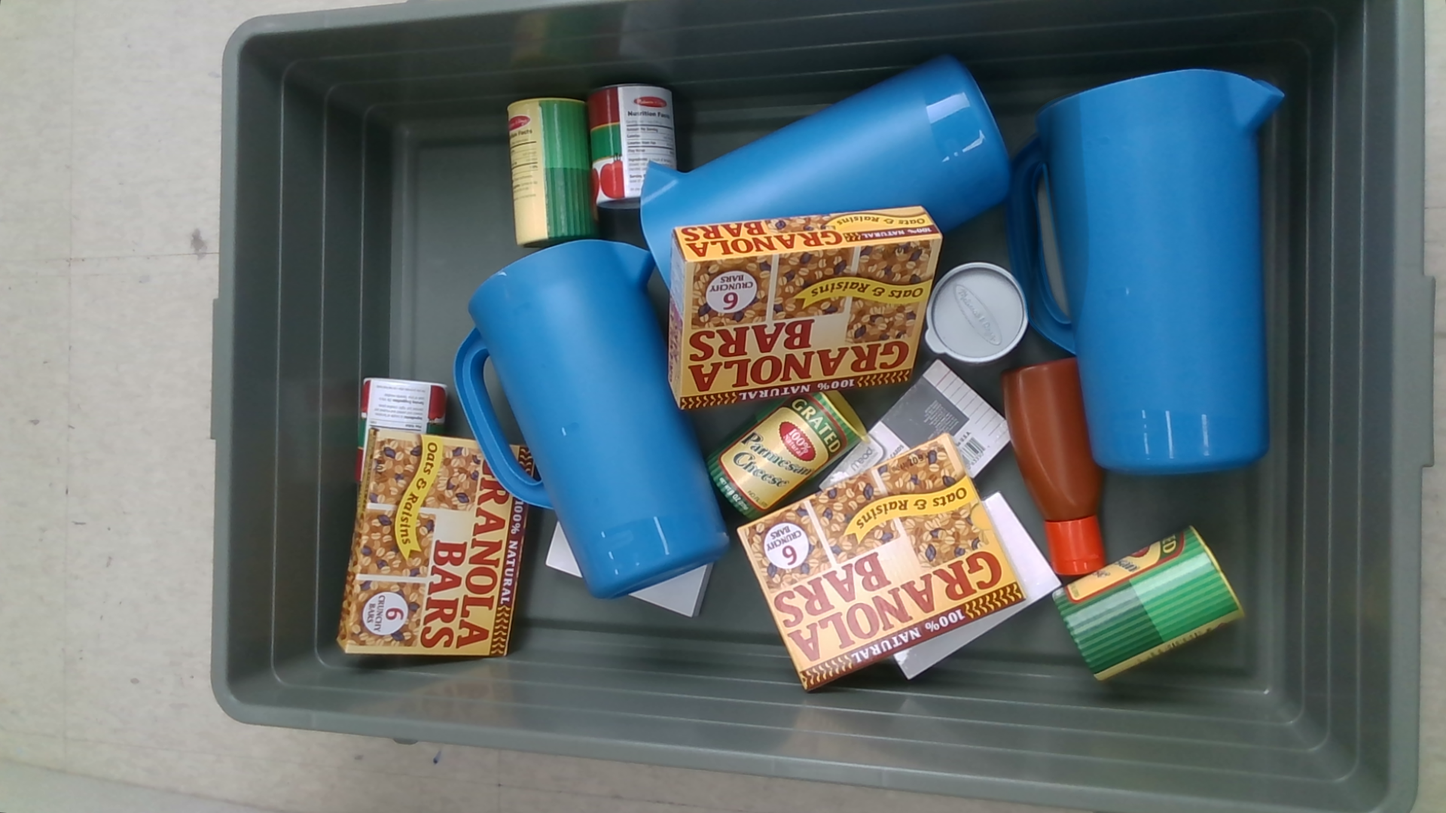defect: (1002, 93, 1089, 349)
